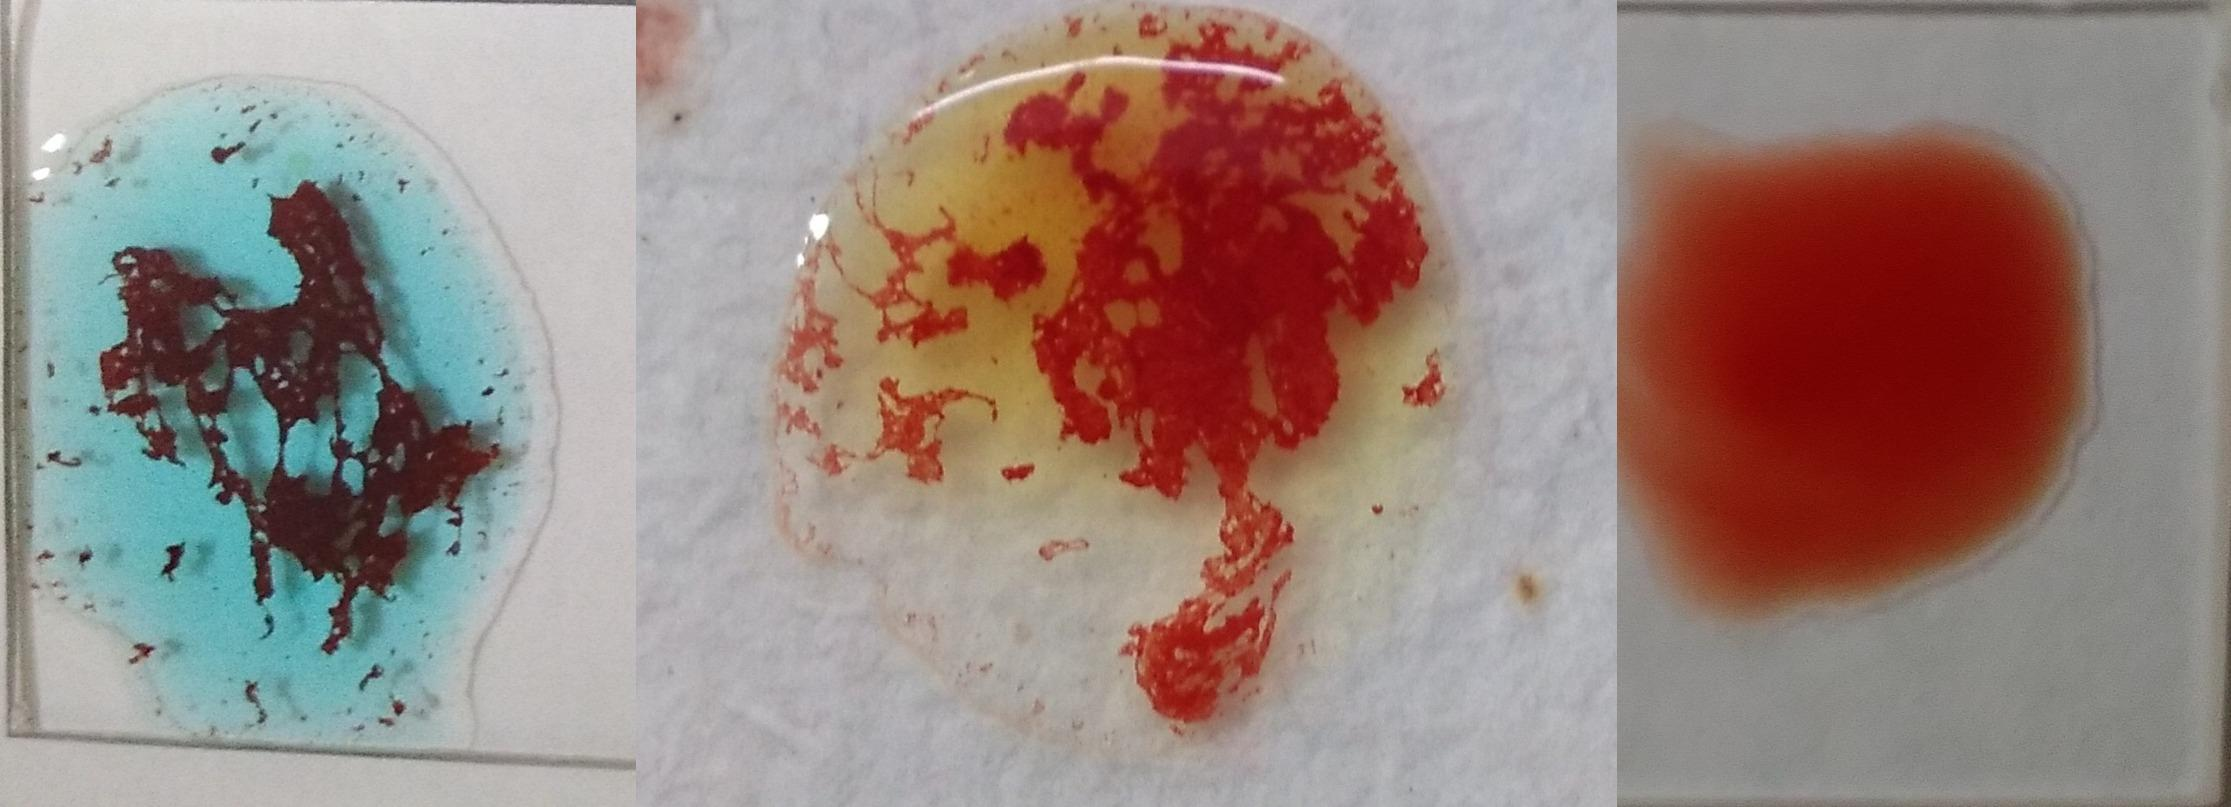A: (18, 65, 556, 750)
B: (774, 10, 1488, 756)
